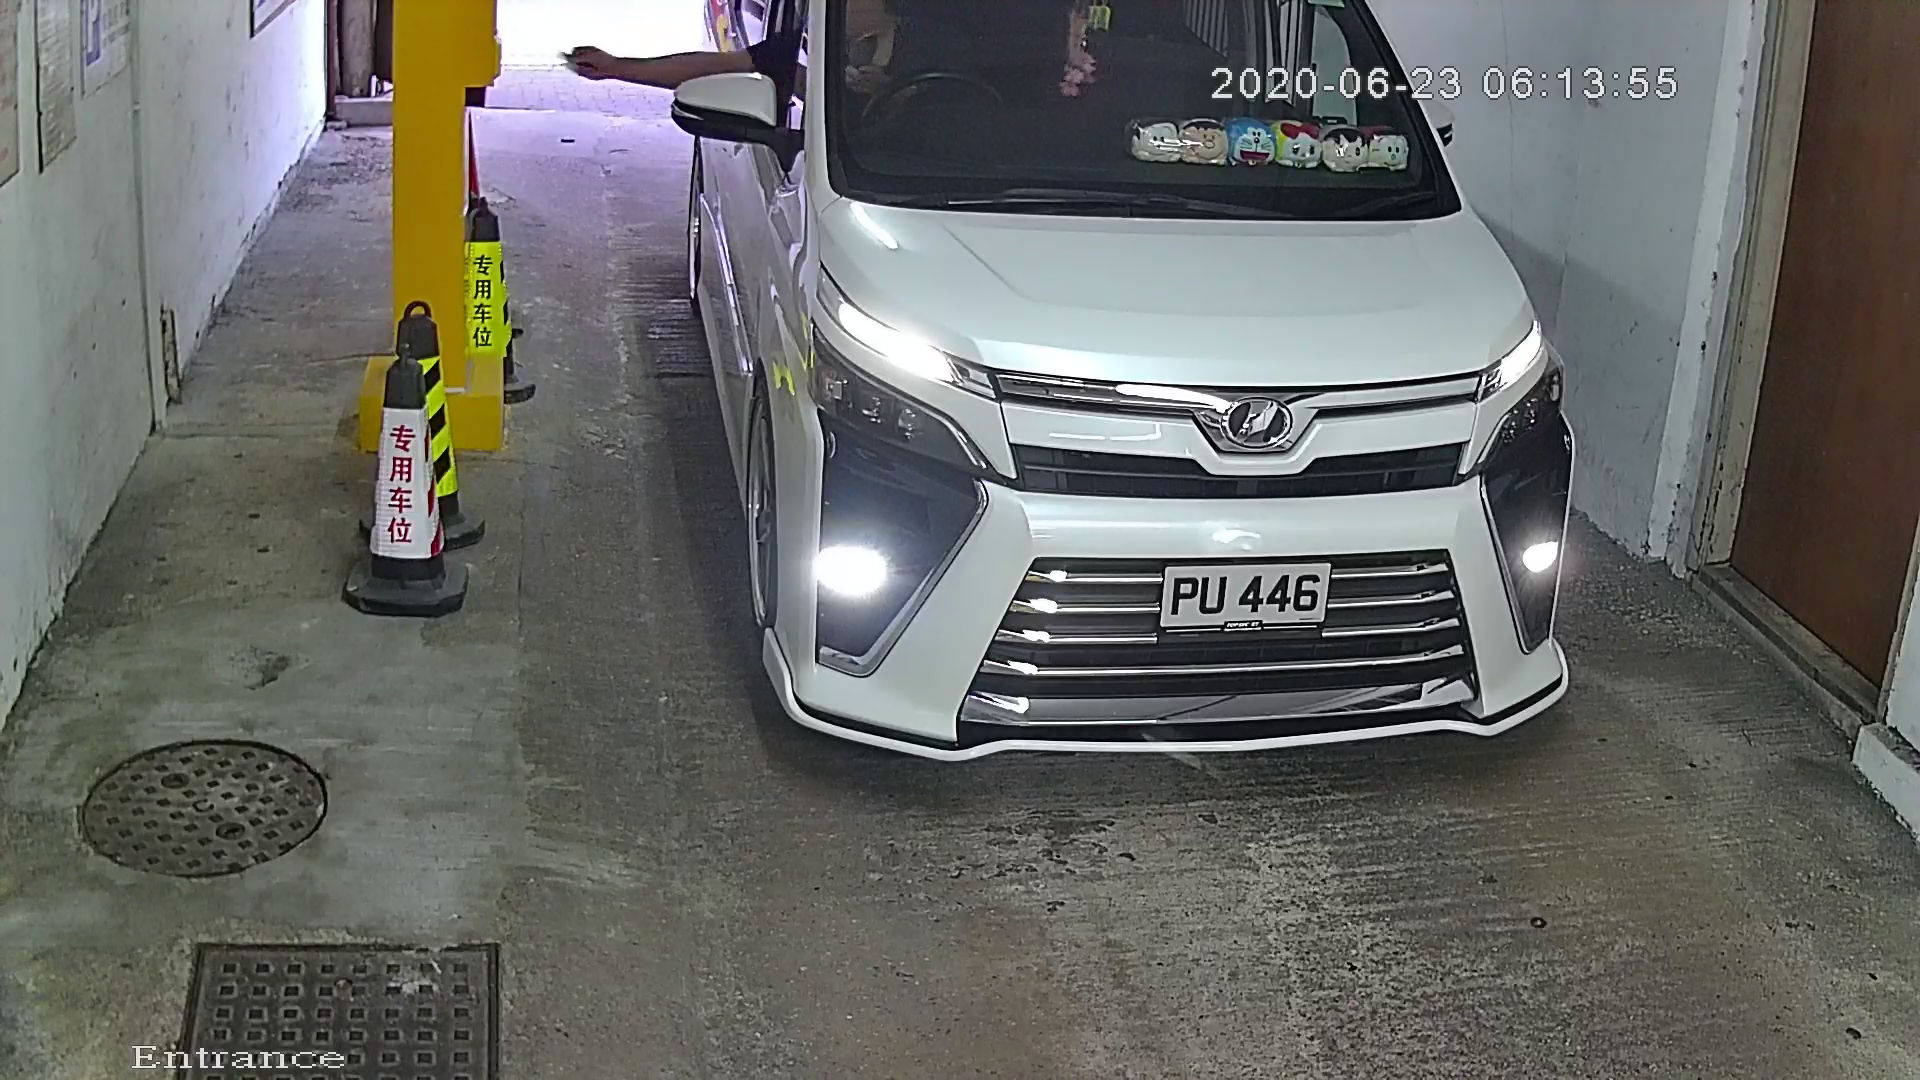privatecar: (618, 1, 1625, 802)
